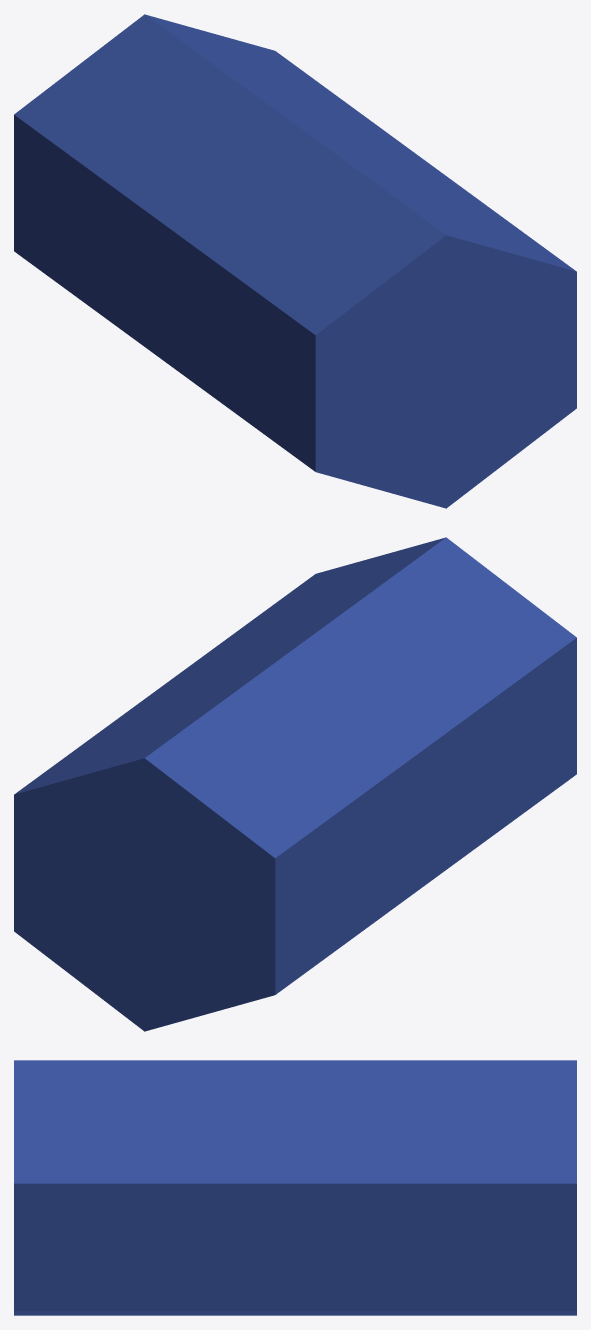
3 renders of one model, top to bottom at view 1: azimuth 30°, elevation 25°; view 2: azimuth 150°, elevation 25°; view 3: azimuth 270°, elevation 25°, orthographic. The views are drawn at different scales.
Visible parts, largest first — view 1: group_3888547; view 2: group_3888547; view 3: group_3888547.
Boxes of the visible parts, left/top/right/bottom form: group_3888547: left=14, top=14, right=576, bottom=508; group_3888547: left=14, top=537, right=576, bottom=1031; group_3888547: left=14, top=1060, right=576, bottom=1315.
Bounding box in the file's own units: 30 × 30 × 60.
